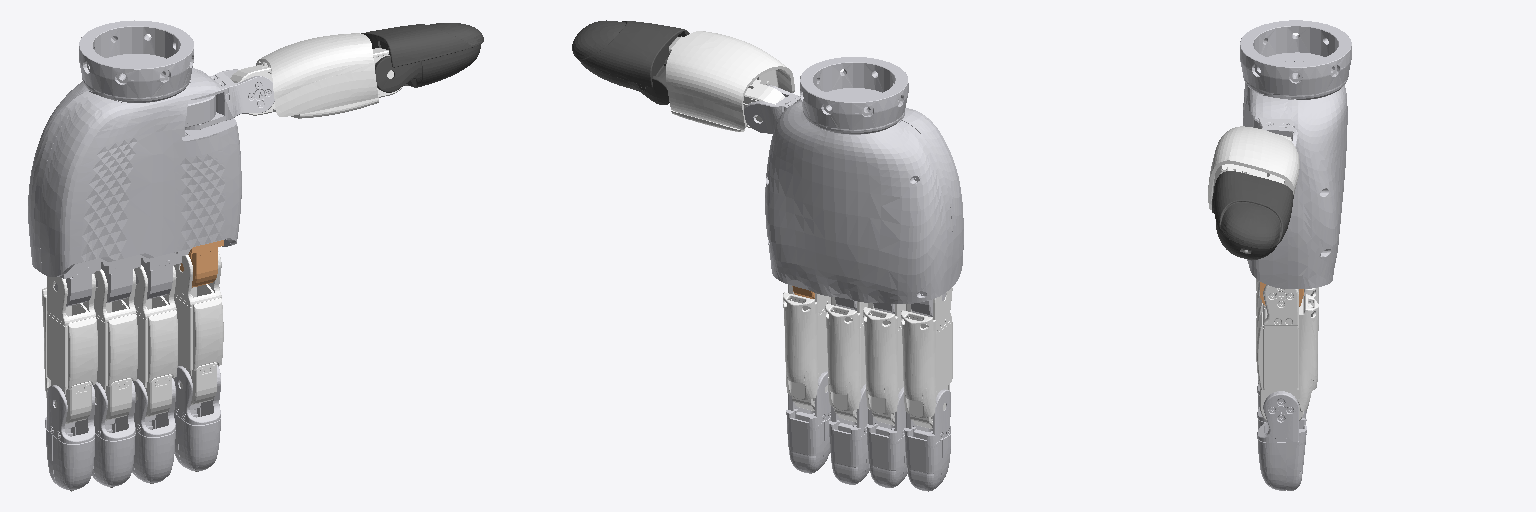
The robot description file, URDF, robot "xhand_left":
<robot name="xhand_left">
  <link name="root"/>
  <joint name="L_forearm_tx_link_joint" type="prismatic">
    <parent link="L_forearm_tx_link"/>
    <child link="L_forearm_ty_link"/>
    <axis xyz="1 0 0"/>
    <limit lower="-5.0" upper="5.0" effort="100" velocity="5"/>
  </joint>
  <link name="L_forearm_tx_link">
    <mass value="0.01"/>
  </link>
  <joint name="L_forearm_ty_link_joint" type="prismatic">
    <parent link="L_forearm_ty_link"/>
    <child link="L_forearm_tz_link"/>
    <axis xyz="0 1 0"/>
    <limit lower="-5.0" upper="5.0" effort="100" velocity="5"/>
  </joint>
  <link name="L_forearm_ty_link">
    <mass value="0.01"/>
  </link>
  <joint name="L_forearm_tz_link_joint" type="prismatic">
    <parent link="L_forearm_tz_link"/>
    <child link="L_forearm_roll_link"/>
    <axis xyz="0 0 1"/>
    <limit lower="-5.0" upper="5.0" effort="100" velocity="5"/>
  </joint>
  <link name="L_forearm_tz_link">
    <mass value="0.01"/>
  </link>
  <joint name="L_forearm_roll_link_joint" type="revolute">
    <parent link="L_forearm_roll_link"/>
    <child link="L_forearm_pitch_link"/>
    <axis xyz="0 0 1"/>
    <limit lower="-6.2" upper="6.2" effort="100" velocity="5"/>
  </joint>
  <link name="L_forearm_roll_link">
    <mass value="0.01"/>
  </link>
  <joint name="L_forearm_pitch_link_joint" type="revolute">
    <parent link="L_forearm_pitch_link"/>
    <child link="L_forearm_yaw_link"/>
    <axis xyz="1 0 0"/>
    <limit lower="-6.2" upper="6.2" effort="100" velocity="5"/>
  </joint>
  <link name="L_forearm_pitch_link">
    <mass value="0.01"/>
  </link>
  <joint name="L_forearm_yaw_link_joint" type="revolute">
    <parent link="L_forearm_yaw_link"/>
    <child link="left_hand_link"/>
    <axis xyz="0 -1 0"/>
    <limit lower="-6.2" upper="6.2" effort="100" velocity="5"/>
  </joint>
  <link name="L_forearm_yaw_link">
    <mass value="0.01"/>
  </link>
  <joint name="root_joint" type="fixed">
    <origin xyz="0 0 0" rpy="0 0 0"/>
    <parent link="root"/>
    <child link="L_forearm_tx_link"/>
    <axis xyz="0 0 0"/>
  </joint>
  <link name="left_hand_link">
    <inertial>
      <origin xyz="-0.00718397232462035 -0.00342395518292698 -0.0584832405332602" rpy="0 0 0"/>
      <mass value="0.529961023577223"/>
      <inertia ixx="0.000480653113997558" ixy="5.6276926629699E-06" ixz="-4.05859709772904E-05" iyy="0.00067789113848308" iyz="-4.83494002678735E-06" izz="0.00034697306572534"/>
    </inertial>
    <visual>
      <origin xyz="0 0 0" rpy="0 0 0"/>
      <geometry>
        <mesh filename="meshes/left_hand_link.obj"/>
      </geometry>
      <material name="">
        <color rgba="0.866666666666667 0.866666666666667 0.890196078431372 1"/>
      </material>
    </visual>
    <collision>
      <origin xyz="0 0 0" rpy="0 0 0"/>
      <geometry>
        <mesh filename="meshes/left_hand_link.obj"/>
      </geometry>
    </collision>
  </link>
  <link name="left_hand_thumb_bend_link">
    <inertial>
      <origin xyz="0.0145290714760328 0.000901344264936247 -0.000127911758588877" rpy="0 0 0"/>
      <mass value="0.0098553409170395"/>
      <inertia ixx="5.42977914410068E-07" ixy="-1.16969836118924E-08" ixz="-3.74492329986334E-08" iyy="1.29130197093564E-06" iyz="-1.5496972766742E-09" izz="1.30457824480983E-06"/>
    </inertial>
    <visual>
      <origin xyz="0 0 0" rpy="0 0 0"/>
      <geometry>
        <mesh filename="meshes/left_hand_thumb_bend_link.obj"/>
      </geometry>
      <material name="">
        <color rgba="0.890196078431372 0.890196078431372 0.913725490196078 1"/>
      </material>
    </visual>
    <collision>
      <origin xyz="0 0 0" rpy="0 0 0"/>
      <geometry>
        <mesh filename="meshes/left_hand_thumb_bend_link.obj"/>
      </geometry>
    </collision>
  </link>
  <joint name="left_hand_thumb_bend_joint" type="revolute">
    <origin xyz="0.0228 -0.0095 -0.0305" rpy="0 0 0"/>
    <parent link="left_hand_link"/>
    <child link="left_hand_thumb_bend_link"/>
    <axis xyz="0 0 -1"/>
    <limit lower="0" upper="1.83" effort="1.1" velocity="8.63"/>
    <dynamics damping="1" friction="1"/>
  </joint>
  <link name="left_hand_thumb_rota_link1">
    <inertial>
      <origin xyz="0.0279279151977349 0.000121046050863875 -0.000277543472497595" rpy="0 0 0"/>
      <mass value="0.153197010050709"/>
      <inertia ixx="2.41523784234409E-05" ixy="6.62856100469595E-06" ixz="1.88729265232125E-07" iyy="4.7191218462316E-05" iyz="1.13949521391224E-07" izz="5.6212272955421E-05"/>
    </inertial>
    <visual>
      <origin xyz="0 0 0" rpy="0 0 0"/>
      <geometry>
        <mesh filename="meshes/left_hand_thumb_rota_link1.obj"/>
      </geometry>
      <material name="">
        <color rgba="1 1 1 1"/>
      </material>
    </visual>
    <collision>
      <origin xyz="0 0 0" rpy="0 0 0"/>
      <geometry>
        <mesh filename="meshes/left_hand_thumb_rota_link1.obj"/>
      </geometry>
    </collision>
  </link>
  <joint name="left_hand_thumb_rota_joint1" type="revolute">
    <origin xyz="0.028599 -0.0083177 0.00178" rpy="-0.2618 0 -0.0407"/>
    <parent link="left_hand_thumb_bend_link"/>
    <child link="left_hand_thumb_rota_link1"/>
    <axis xyz="0 1 0"/>
    <limit lower="-1.05" upper="1.57" effort="1.1" velocity="8.63"/>
    <dynamics damping="1" friction="1"/>
  </joint>
  <link name="left_hand_thumb_rota_link2">
    <inertial>
      <origin xyz="0.0224529466888815 0.000690615200902365 0.00314278985524262" rpy="0 0 0"/>
      <mass value="0.0374009578136616"/>
      <inertia ixx="3.98060244076823E-06" ixy="4.94846156827651E-07" ixz="1.18267329781539E-07" iyy="8.21784089346997E-06" iyz="6.13556519818818E-08" izz="9.54038333156961E-06"/>
    </inertial>
    <visual>
      <origin xyz="0 0 0" rpy="0 0 0"/>
      <geometry>
        <mesh filename="meshes/left_hand_thumb_rota_link2.obj"/>
      </geometry>
      <material name="">
        <color rgba="0.384313725490196 0.384313725490196 0.384313725490196 1"/>
      </material>
    </visual>
    <collision>
      <origin xyz="0 0 0" rpy="0 0 0"/>
      <geometry>
        <mesh filename="meshes/left_hand_thumb_rota_link2.obj"/>
      </geometry>
    </collision>
  </link>
  <joint name="left_hand_thumb_rota_joint2" type="revolute">
    <origin xyz="0.0553 0 0" rpy="0 0 0"/>
    <parent link="left_hand_thumb_rota_link1"/>
    <child link="left_hand_thumb_rota_link2"/>
    <axis xyz="0 1 0"/>
    <limit lower="-0.17" upper="1.83" effort="0.4" velocity="14.38"/>
    <dynamics damping="1" friction="1"/>
  </joint>
  <link name="left_hand_thumb_rota_tip">
    <visual>
      <origin xyz="0 0 0" rpy="0 0 0"/>
      <geometry>
        <sphere radius="0.001"/>
      </geometry>
      <material name="">
        <color rgba="0.698039215686274 0.698039215686274 0.698039215686274 1"/>
      </material>
    </visual>
  </link>
  <joint name="left_hand_thumb_rota_joint3" type="fixed">
    <origin xyz="0.0504017317642718 0 0" rpy="0 0 0"/>
    <parent link="left_hand_thumb_rota_link2"/>
    <child link="left_hand_thumb_rota_tip"/>
    <axis xyz="0 0 0"/>
  </joint>
  <link name="left_hand_index_bend_link">
    <inertial>
      <origin xyz="-0.000134544831370011 -0.000675884062860156 0.00420851049165961" rpy="0 0 0"/>
      <mass value="0.0677836037392838"/>
      <inertia ixx="2.16567127431793E-05" ixy="1.17519873383444E-08" ixz="-8.90740188704384E-08" iyy="2.09681513604224E-05" iyz="6.68676922531736E-07" izz="3.39515033610064E-06"/>
    </inertial>
    <visual>
      <origin xyz="0 0 0" rpy="0 0 0"/>
      <geometry>
        <mesh filename="meshes/left_hand_index_bend_link.obj"/>
      </geometry>
      <material name="">
        <color rgba="0.988235294117647 0.737254901960784 0.517647058823529 1"/>
      </material>
    </visual>
    <collision>
      <origin xyz="0 0 0" rpy="0 0 0"/>
      <geometry>
        <mesh filename="meshes/left_hand_index_bend_link.obj"/>
      </geometry>
    </collision>
  </link>
  <joint name="left_hand_index_bend_joint" type="revolute">
    <origin xyz="0.0265 -0.0065 -0.0899" rpy="0 0 0"/>
    <parent link="left_hand_link"/>
    <child link="left_hand_index_bend_link"/>
    <axis xyz="0 1 0"/>
    <limit lower="-0.175" upper="0.175" effort="0.4" velocity="14.38"/>
    <dynamics damping="1" friction="1"/>
  </joint>
  <link name="left_hand_index_rota_link1">
    <inertial>
      <origin xyz="0.000139769333493966 0.000800517079915854 -0.0356038561271479" rpy="0 0 0"/>
      <mass value="0.0630216014538817"/>
      <inertia ixx="2.0518746365106E-05" ixy="7.80218143369854E-09" ixz="-4.29054701209884E-07" iyy="1.92422615292432E-05" iyz="-2.4702784768408E-07" izz="4.15027341232346E-06"/>
    </inertial>
    <visual>
      <origin xyz="0 0 0" rpy="0 0 0"/>
      <geometry>
        <mesh filename="meshes/left_hand_index_rota_link1.obj"/>
      </geometry>
      <material name="">
        <color rgba="1 1 1 1"/>
      </material>
    </visual>
    <collision>
      <origin xyz="0 0 0" rpy="0 0 0"/>
      <geometry>
        <mesh filename="meshes/left_hand_index_rota_link1.obj"/>
      </geometry>
    </collision>
  </link>
  <joint name="left_hand_index_joint1" type="revolute">
    <origin xyz="0 0 -0.0178" rpy="0 0 0"/>
    <parent link="left_hand_index_bend_link"/>
    <child link="left_hand_index_rota_link1"/>
    <axis xyz="-1 0 0"/>
    <limit lower="0" upper="1.92" effort="1.1" velocity="8.63"/>
    <dynamics damping="1" friction="1"/>
  </joint>
  <link name="left_hand_index_rota_link2">
    <inertial>
      <origin xyz="0.000338569414886528 -1.93676040351407E-05 -0.0231328539120741" rpy="0 0 0"/>
      <mass value="0.0179923076570599"/>
      <inertia ixx="3.01810067223025E-06" ixy="-4.92126455642096E-10" ixz="-9.09991288403927E-08" iyy="3.0198354354144E-06" iyz="-5.99900012810543E-08" izz="9.885388987729E-07"/>
    </inertial>
    <visual>
      <origin xyz="0 0 0" rpy="0 0 0"/>
      <geometry>
        <mesh filename="meshes/left_hand_index_rota_link2.obj"/>
      </geometry>
      <material name="">
        <color rgba="0.866666666666667 0.866666666666667 0.890196078431372 1"/>
      </material>
    </visual>
    <collision>
      <origin xyz="0 0 0" rpy="0 0 0"/>
      <geometry>
        <mesh filename="meshes/left_hand_index_rota_link2.obj"/>
      </geometry>
    </collision>
  </link>
  <joint name="left_hand_index_joint2" type="revolute">
    <origin xyz="0 0 -0.0558" rpy="0 0 0"/>
    <parent link="left_hand_index_rota_link1"/>
    <child link="left_hand_index_rota_link2"/>
    <axis xyz="-1 0 0"/>
    <limit lower="0" upper="1.92" effort="0.4" velocity="14.38"/>
    <dynamics damping="1" friction="1"/>
  </joint>
  <link name="left_hand_index_rota_tip">
    <visual>
      <origin xyz="0 0 0" rpy="0 0 0"/>
      <geometry>
        <sphere radius="0.001"/>
      </geometry>
      <material name="">
        <color rgba="0.698039215686274 0.698039215686274 0.698039215686274 1"/>
      </material>
    </visual>
  </link>
  <joint name="left_hand_index_rota_joint3" type="fixed">
    <origin xyz="0 0 -0.0424999999999991" rpy="0 0 0"/>
    <parent link="left_hand_index_rota_link2"/>
    <child link="left_hand_index_rota_tip"/>
    <axis xyz="0 0 0"/>
  </joint>
  <link name="left_hand_mid_link1">
    <inertial>
      <origin xyz="0.000139769503048257 0.00080051681932813 -0.0356038562198462" rpy="0 0 0"/>
      <mass value="0.0630216000876532"/>
      <inertia ixx="2.0518746354026E-05" ixy="7.80206454050682E-09" ixz="-4.29054815974796E-07" iyy="1.92422617602022E-05" iyz="-2.47027801809116E-07" izz="4.15027323551749E-06"/>
    </inertial>
    <visual>
      <origin xyz="0 0 0" rpy="0 0 0"/>
      <geometry>
        <mesh filename="meshes/left_hand_mid_link1.obj"/>
      </geometry>
      <material name="">
        <color rgba="1 1 1 1"/>
      </material>
    </visual>
    <collision>
      <origin xyz="0 0 0" rpy="0 0 0"/>
      <geometry>
        <mesh filename="meshes/left_hand_mid_link1.obj"/>
      </geometry>
    </collision>
  </link>
  <joint name="left_hand_mid_joint1" type="revolute">
    <origin xyz="0.004 -0.0065 -0.1082" rpy="0 0 0"/>
    <parent link="left_hand_link"/>
    <child link="left_hand_mid_link1"/>
    <axis xyz="-1 0 0"/>
    <limit lower="0" upper="1.92" effort="1.1" velocity="8.63"/>
    <dynamics damping="1" friction="1"/>
  </joint>
  <link name="left_hand_mid_link2">
    <inertial>
      <origin xyz="0.000338571504924487 -1.93625114516685E-05 -0.0231328477388325" rpy="0 0 0"/>
      <mass value="0.0179922971238626"/>
      <inertia ixx="3.01809863607458E-06" ixy="-4.91830289601756E-10" ixz="-9.09984854679422E-08" iyy="3.01983397037226E-06" iyz="-5.99889522310673E-08" izz="9.88538040128258E-07"/>
    </inertial>
    <visual>
      <origin xyz="0 0 0" rpy="0 0 0"/>
      <geometry>
        <mesh filename="meshes/left_hand_mid_link2.obj"/>
      </geometry>
      <material name="">
        <color rgba="0.866666666666667 0.866666666666667 0.890196078431372 1"/>
      </material>
    </visual>
    <collision>
      <origin xyz="0 0 0" rpy="0 0 0"/>
      <geometry>
        <mesh filename="meshes/left_hand_mid_link2.obj"/>
      </geometry>
    </collision>
  </link>
  <joint name="left_hand_mid_joint2" type="revolute">
    <origin xyz="0 0 -0.0558" rpy="0 0 0"/>
    <parent link="left_hand_mid_link1"/>
    <child link="left_hand_mid_link2"/>
    <axis xyz="-1 0 0"/>
    <limit lower="0" upper="1.92" effort="0.4" velocity="14.38"/>
    <dynamics damping="1" friction="1"/>
  </joint>
  <link name="left_hand_mid_tip">
    <visual>
      <origin xyz="0 0 0" rpy="0 0 0"/>
      <geometry>
        <sphere radius="0.001"/>
      </geometry>
      <material name="">
        <color rgba="0.698039215686274 0.698039215686274 0.698039215686274 1"/>
      </material>
    </visual>
  </link>
  <joint name="left_hand_mid_joint3" type="fixed">
    <origin xyz="0 0 -0.0424999999999995" rpy="0 0 0"/>
    <parent link="left_hand_mid_link2"/>
    <child link="left_hand_mid_tip"/>
    <axis xyz="0 0 0"/>
  </joint>
  <link name="left_hand_ring_link1">
    <inertial>
      <origin xyz="0.000139769503829958 0.00080051746545018 -0.0356038550320788" rpy="0 0 0"/>
      <mass value="0.0630216034004235"/>
      <inertia ixx="2.05187480603073E-05" ixy="7.80204473072652E-09" ixz="-4.29055143702643E-07" iyy="1.92422630398686E-05" iyz="-2.47028634316192E-07" izz="4.15027377034858E-06"/>
    </inertial>
    <visual>
      <origin xyz="0 0 0" rpy="0 0 0"/>
      <geometry>
        <mesh filename="meshes/left_hand_ring_link1.obj"/>
      </geometry>
      <material name="">
        <color rgba="1 1 1 1"/>
      </material>
    </visual>
    <collision>
      <origin xyz="0 0 0" rpy="0 0 0"/>
      <geometry>
        <mesh filename="meshes/left_hand_ring_link1.obj"/>
      </geometry>
    </collision>
  </link>
  <joint name="left_hand_ring_joint1" type="revolute">
    <origin xyz="-0.016 -0.0065 -0.1052" rpy="0 0 0"/>
    <parent link="left_hand_link"/>
    <child link="left_hand_ring_link1"/>
    <axis xyz="-1 0 0"/>
    <limit lower="0" upper="1.92" effort="1.1" velocity="8.63"/>
    <dynamics damping="1" friction="1"/>
  </joint>
  <link name="left_hand_ring_link2">
    <inertial>
      <origin xyz="0.000338569362970571 -1.93675642107764E-05 -0.0231328537916428" rpy="0 0 0"/>
      <mass value="0.0179923074393582"/>
      <inertia ixx="3.01810064426992E-06" ixy="-4.92130070945092E-10" ixz="-9.09991388750487E-08" iyy="3.0198354064253E-06" iyz="-5.99899932123125E-08" izz="9.88538891512388E-07"/>
    </inertial>
    <visual>
      <origin xyz="0 0 0" rpy="0 0 0"/>
      <geometry>
        <mesh filename="meshes/left_hand_ring_link2.obj"/>
      </geometry>
      <material name="">
        <color rgba="0.866666666666667 0.866666666666667 0.890196078431372 1"/>
      </material>
    </visual>
    <collision>
      <origin xyz="0 0 0" rpy="0 0 0"/>
      <geometry>
        <mesh filename="meshes/left_hand_ring_link2.obj"/>
      </geometry>
    </collision>
  </link>
  <joint name="left_hand_ring_joint2" type="revolute">
    <origin xyz="0 0 -0.0558" rpy="0 0 0"/>
    <parent link="left_hand_ring_link1"/>
    <child link="left_hand_ring_link2"/>
    <axis xyz="-1 0 0"/>
    <limit lower="0" upper="1.92" effort="0.4" velocity="14.38"/>
    <dynamics damping="1" friction="1"/>
  </joint>
  <link name="left_hand_ring_tip">
    <visual>
      <origin xyz="0 0 0" rpy="0 0 0"/>
      <geometry>
        <sphere radius="0.001"/>
      </geometry>
      <material name="">
        <color rgba="0.698039215686274 0.698039215686274 0.698039215686274 1"/>
      </material>
    </visual>
  </link>
  <joint name="left_hand_ring_joint3" type="fixed">
    <origin xyz="0 0 -0.0425" rpy="0 0 0"/>
    <parent link="left_hand_ring_link2"/>
    <child link="left_hand_ring_tip"/>
    <axis xyz="0 0 0"/>
  </joint>
  <link name="left_hand_pinky_link1">
    <inertial>
      <origin xyz="0.000139769403140894 0.000800517208403269 -0.0356038550457389" rpy="0 0 0"/>
      <mass value="0.0630216018833023"/>
      <inertia ixx="2.05187477543832E-05" ixy="7.80212984947717E-09" ixz="-4.29055030397585E-07" iyy="1.92422628106822E-05" iyz="-2.47028571410968E-07" izz="4.15027354474908E-06"/>
    </inertial>
    <visual>
      <origin xyz="0 0 0" rpy="0 0 0"/>
      <geometry>
        <mesh filename="meshes/left_hand_pinky_link1.obj"/>
      </geometry>
      <material name="">
        <color rgba="1 1 1 1"/>
      </material>
    </visual>
    <collision>
      <origin xyz="0 0 0" rpy="0 0 0"/>
      <geometry>
        <mesh filename="meshes/left_hand_pinky_link1.obj"/>
      </geometry>
    </collision>
  </link>
  <joint name="left_hand_pinky_joint1" type="revolute">
    <origin xyz="-0.036 -0.0065 -0.1022" rpy="0 0 0"/>
    <parent link="left_hand_link"/>
    <child link="left_hand_pinky_link1"/>
    <axis xyz="-1 0 0"/>
    <limit lower="0" upper="1.92" effort="1.1" velocity="8.63"/>
    <dynamics damping="1" friction="1"/>
  </joint>
  <link name="left_hand_pinky_link2">
    <inertial>
      <origin xyz="0.000338573187645894 -1.93618349248192E-05 -0.0231328439241562" rpy="0 0 0"/>
      <mass value="0.0179922893932107"/>
      <inertia ixx="3.01809788005842E-06" ixy="-4.91751568021702E-10" ixz="-9.09983567107085E-08" iyy="3.0198329418105E-06" iyz="-5.99887920223039E-08" izz="9.8853806652991E-07"/>
    </inertial>
    <visual>
      <origin xyz="0 0 0" rpy="0 0 0"/>
      <geometry>
        <mesh filename="meshes/left_hand_pinky_link2.obj"/>
      </geometry>
      <material name="">
        <color rgba="0.866666666666667 0.866666666666667 0.890196078431372 1"/>
      </material>
    </visual>
    <collision>
      <origin xyz="0 0 0" rpy="0 0 0"/>
      <geometry>
        <mesh filename="meshes/left_hand_pinky_link2.obj"/>
      </geometry>
    </collision>
  </link>
  <joint name="left_hand_pinky_joint2" type="revolute">
    <origin xyz="0 0 -0.0558" rpy="0 0 0"/>
    <parent link="left_hand_pinky_link1"/>
    <child link="left_hand_pinky_link2"/>
    <axis xyz="-1 0 0"/>
    <limit lower="0" upper="1.92" effort="0.4" velocity="14.38"/>
    <dynamics damping="1" friction="1"/>
  </joint>
  <link name="left_hand_pinky_tip">
    <visual>
      <origin xyz="0 0 0" rpy="0 0 0"/>
      <geometry>
        <sphere radius="0.001"/>
      </geometry>
      <material name="">
        <color rgba="0.698039215686274 0.698039215686274 0.698039215686274 1"/>
      </material>
    </visual>
  </link>
  <joint name="left_hand_pinky_joint3" type="fixed">
    <origin xyz="0 0 -0.0424999999999995" rpy="0 0 0"/>
    <parent link="left_hand_pinky_link2"/>
    <child link="left_hand_pinky_tip"/>
    <axis xyz="0 0 0"/>
  </joint>
</robot>

--- Facts derived from the render (not from the file) ---
Views: 3 orthographic renders of the robot side by side, from view 1: azimuth 30°, elevation 25°; view 2: azimuth 150°, elevation 25°; view 3: azimuth 270°, elevation 25°.
Model xhand_left with 25 links and 24 joints (15 revolute, 3 prismatic, 6 fixed), rooted at root, posed every joint at zero.
Links seen in each view (by area): view 1: left_hand_link, left_hand_thumb_rota_link1, left_hand_pinky_link1, left_hand_thumb_rota_link2, left_hand_index_rota_link1, left_hand_mid_link1, left_hand_ring_link1, left_hand_pinky_link2, left_hand_index_rota_link2, left_hand_ring_link2, left_hand_mid_link2, left_hand_thumb_bend_link (+1 smaller); view 2: left_hand_link, left_hand_thumb_rota_link1, left_hand_thumb_rota_link2, left_hand_pinky_link1, left_hand_index_rota_link1, left_hand_mid_link1, left_hand_ring_link1, left_hand_pinky_link2, left_hand_index_rota_link2, left_hand_ring_link2, left_hand_mid_link2, left_hand_thumb_bend_link; view 3: left_hand_link, left_hand_index_rota_link1, left_hand_thumb_rota_link2, left_hand_thumb_rota_link1, left_hand_index_rota_link2, left_hand_thumb_bend_link.
Link boxes in pixels (bbox=[...]): left_hand_link: bbox=[28, 20, 241, 306]; left_hand_thumb_rota_link1: bbox=[230, 33, 401, 118]; left_hand_pinky_link1: bbox=[42, 274, 97, 423]; left_hand_thumb_rota_link2: bbox=[361, 23, 483, 92]; left_hand_index_rota_link1: bbox=[174, 251, 223, 404]; left_hand_mid_link1: bbox=[134, 265, 177, 416]; left_hand_ring_link1: bbox=[94, 269, 137, 420]; left_hand_pinky_link2: bbox=[45, 385, 94, 489]; left_hand_index_rota_link2: bbox=[173, 365, 220, 470]; left_hand_ring_link2: bbox=[92, 381, 135, 486]; left_hand_mid_link2: bbox=[132, 378, 175, 482]; left_hand_thumb_bend_link: bbox=[185, 69, 274, 129]; left_hand_link: bbox=[765, 57, 963, 316]; left_hand_thumb_rota_link1: bbox=[666, 31, 794, 131]; left_hand_thumb_rota_link2: bbox=[572, 20, 689, 104]; left_hand_pinky_link1: bbox=[901, 288, 952, 428]; left_hand_index_rota_link1: bbox=[783, 285, 830, 410]; left_hand_mid_link1: bbox=[825, 297, 867, 422]; left_hand_ring_link1: bbox=[863, 303, 905, 425]; left_hand_pinky_link2: bbox=[904, 389, 950, 491]; left_hand_index_rota_link2: bbox=[786, 371, 830, 473]; left_hand_ring_link2: bbox=[867, 387, 907, 487]; left_hand_mid_link2: bbox=[829, 384, 869, 484]; left_hand_thumb_bend_link: bbox=[744, 85, 800, 133]; left_hand_link: bbox=[1240, 20, 1351, 288]; left_hand_index_rota_link1: bbox=[1256, 285, 1318, 420]; left_hand_thumb_rota_link2: bbox=[1212, 171, 1293, 259]; left_hand_thumb_rota_link1: bbox=[1208, 126, 1299, 209]; left_hand_index_rota_link2: bbox=[1257, 391, 1306, 490]; left_hand_thumb_bend_link: bbox=[1258, 118, 1297, 146].
Bounding box of the posed robot: 0.209 × 0.0641 × 0.2075 m (x, y, z).
13 mesh visuals loaded from 13 distinct referenced files (13 OBJ).
